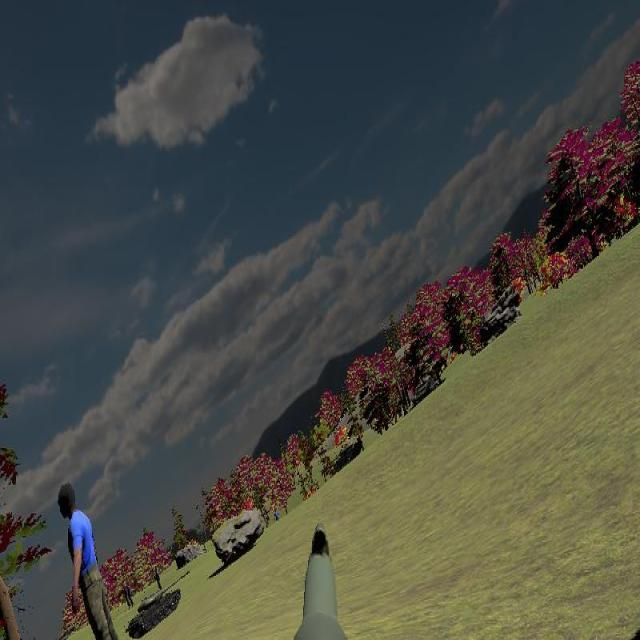Human: (58, 481, 128, 640)
Tank: (126, 571, 192, 639), (148, 571, 191, 621), (333, 437, 363, 473), (414, 375, 439, 405)
